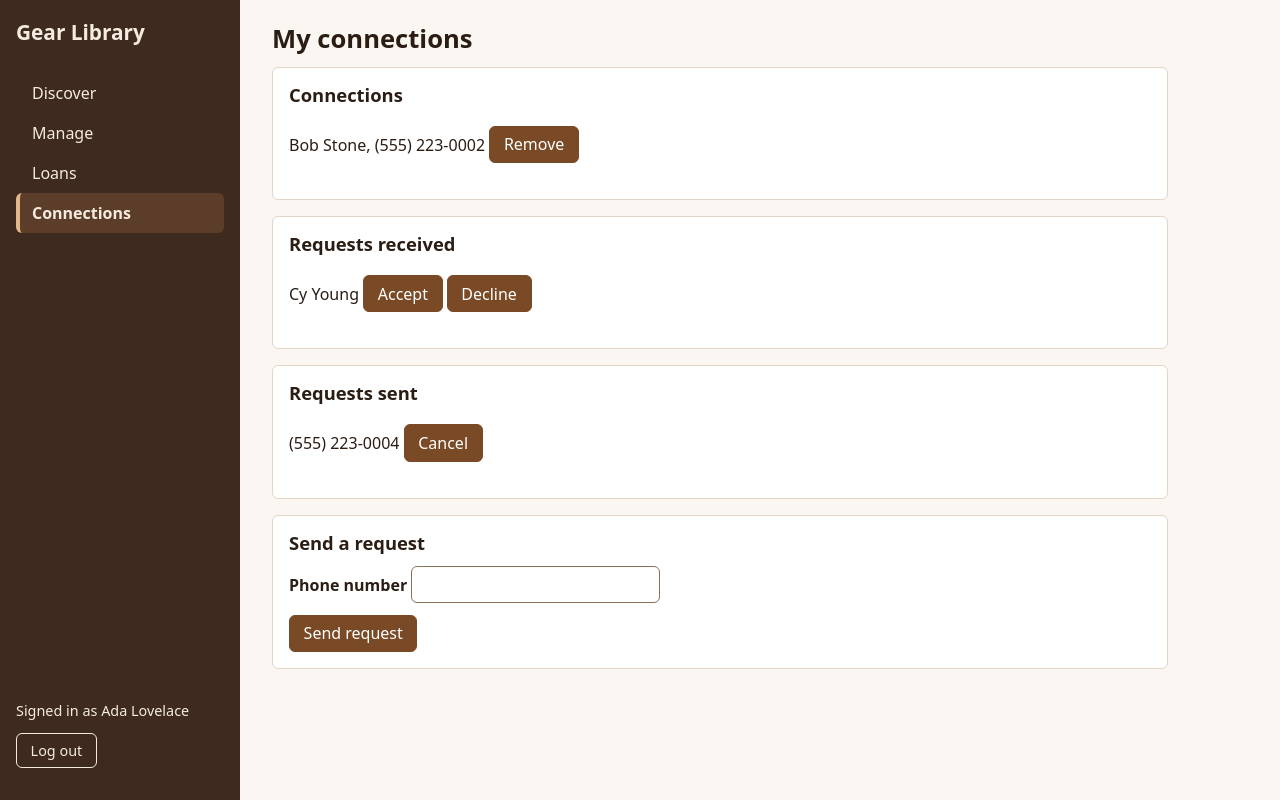
Test: answering requests › accepting moves the request to the connections
This screenshot has width=1280, height=800.
Check: the heading "My connections" is shown, box [272, 21, 473, 56]
Click the button with aria-label "Accept request from Cy Young" at (403,294), box [363, 275, 443, 312]
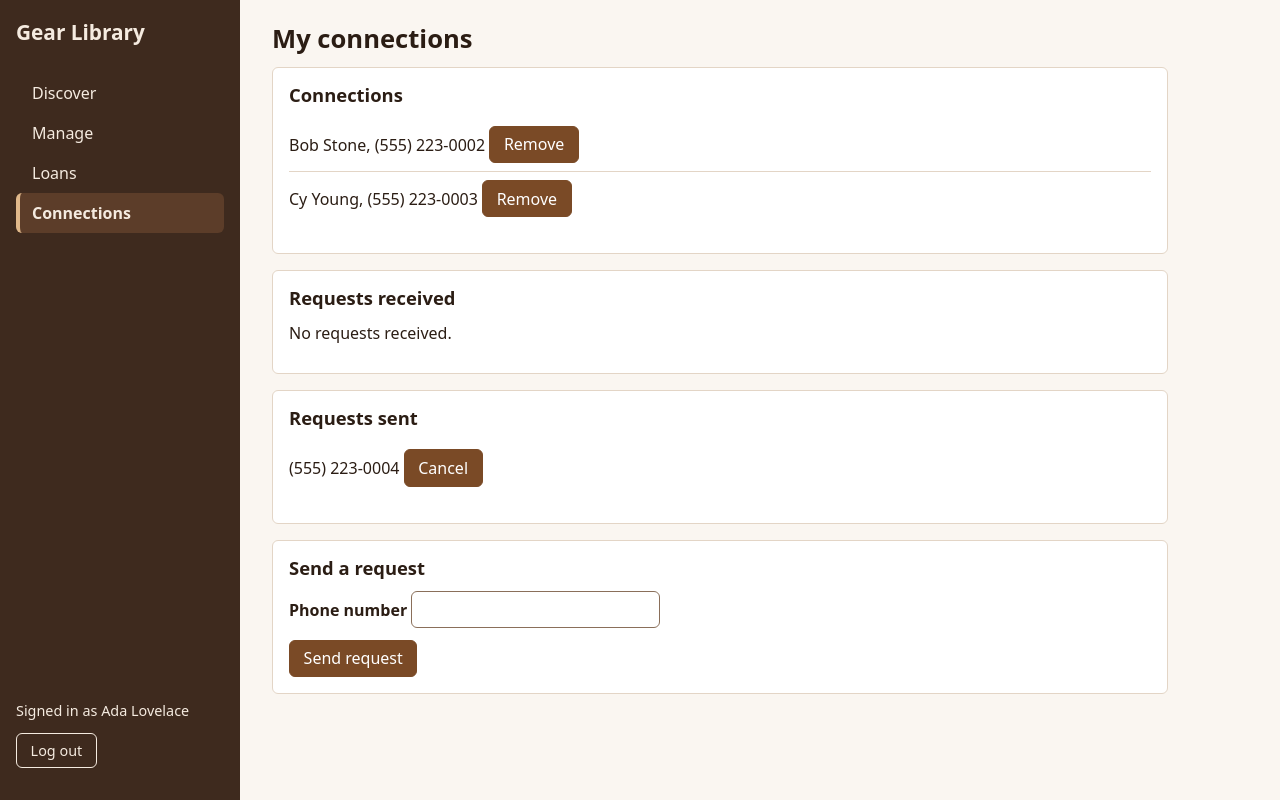
Check: the text "No requests received." is shown, box [289, 322, 452, 344]
